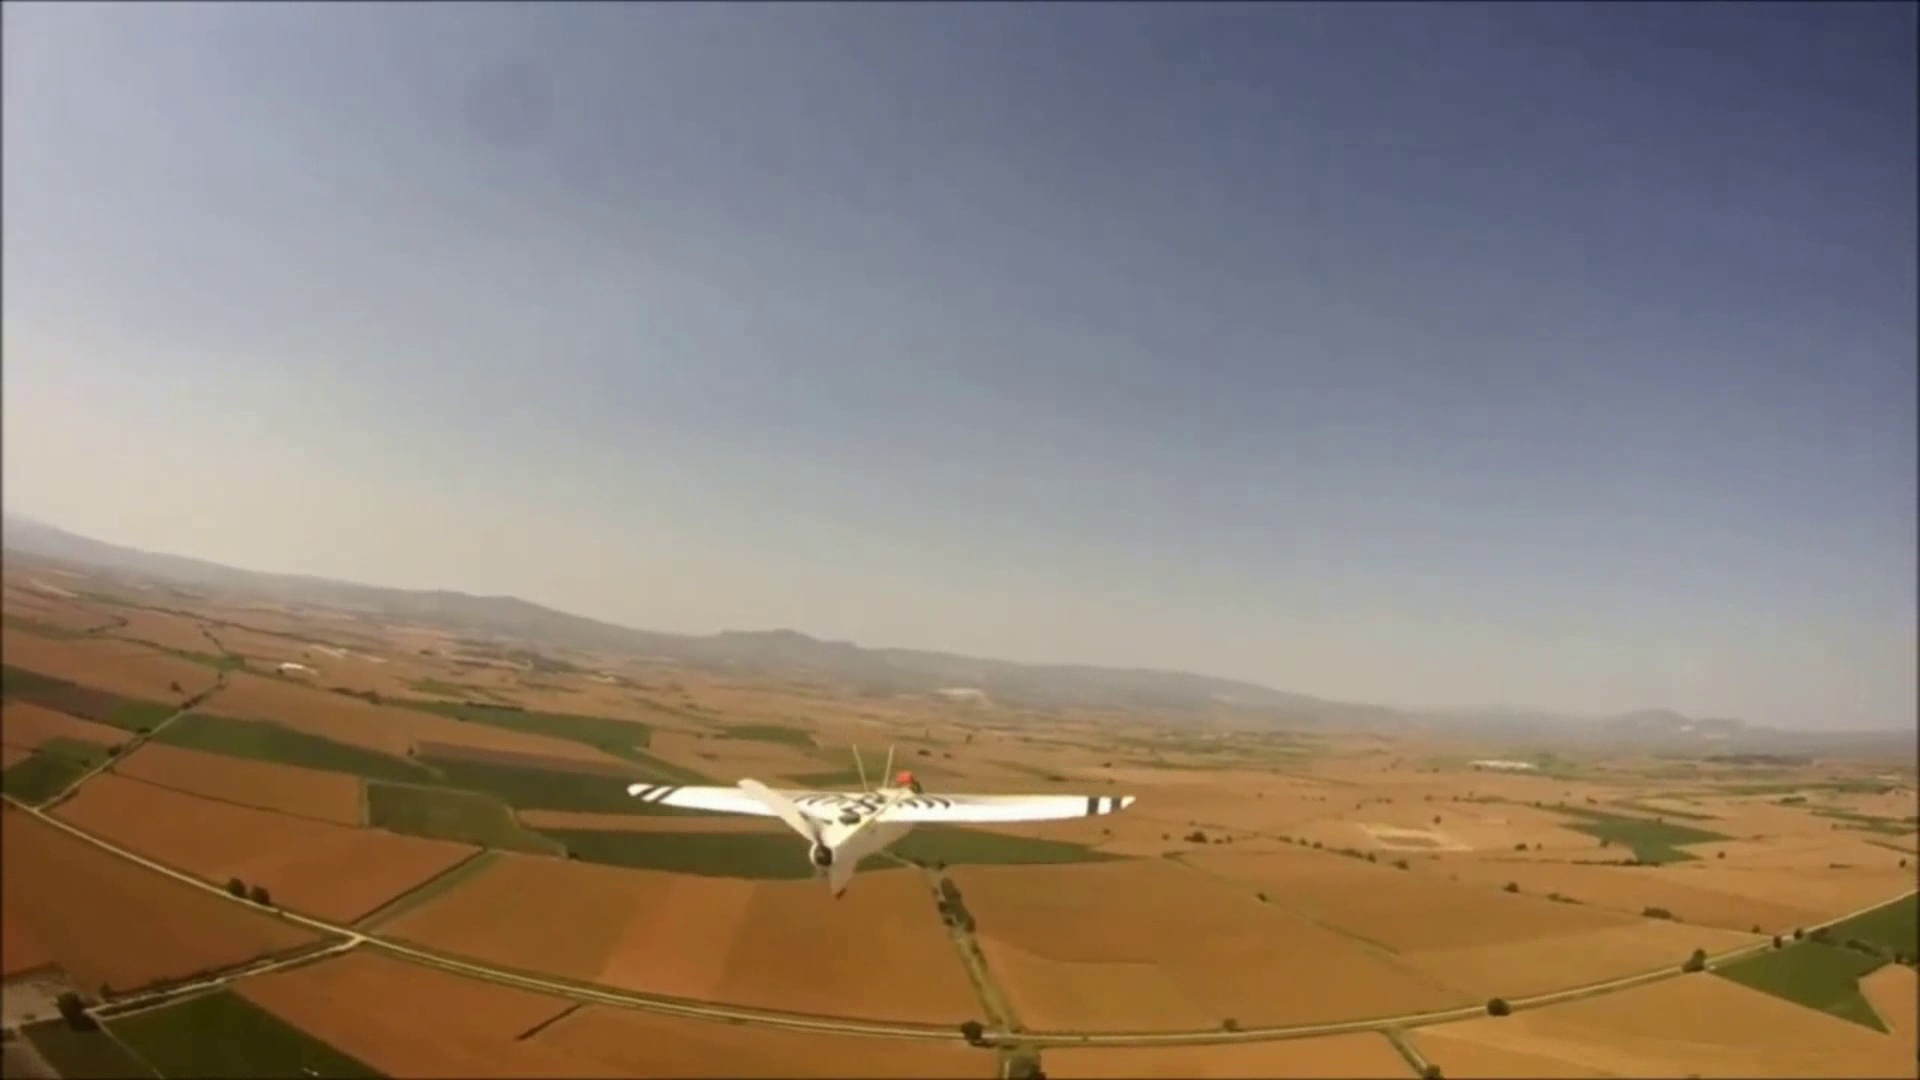airplane: (16, 512, 1132, 892)
